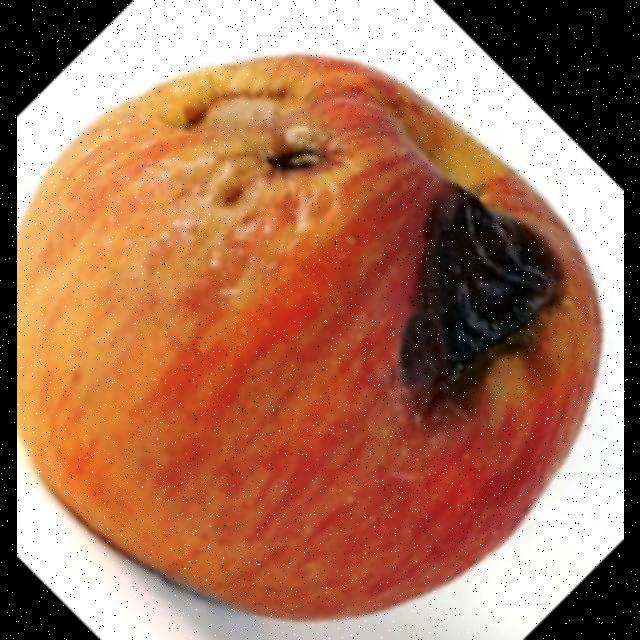Apel Tidak Segar: (18, 48, 598, 624)
